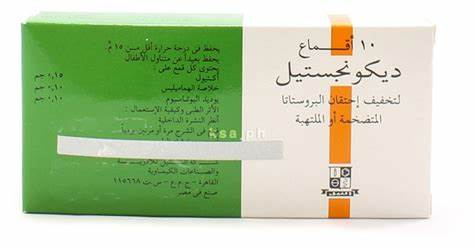Medicine: (18, 9, 445, 223)
